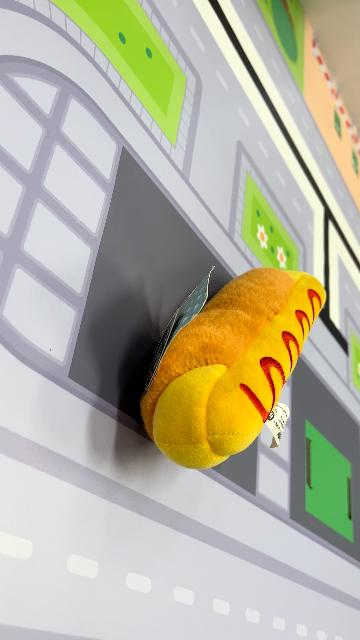hotdog: (140, 266, 328, 472)
